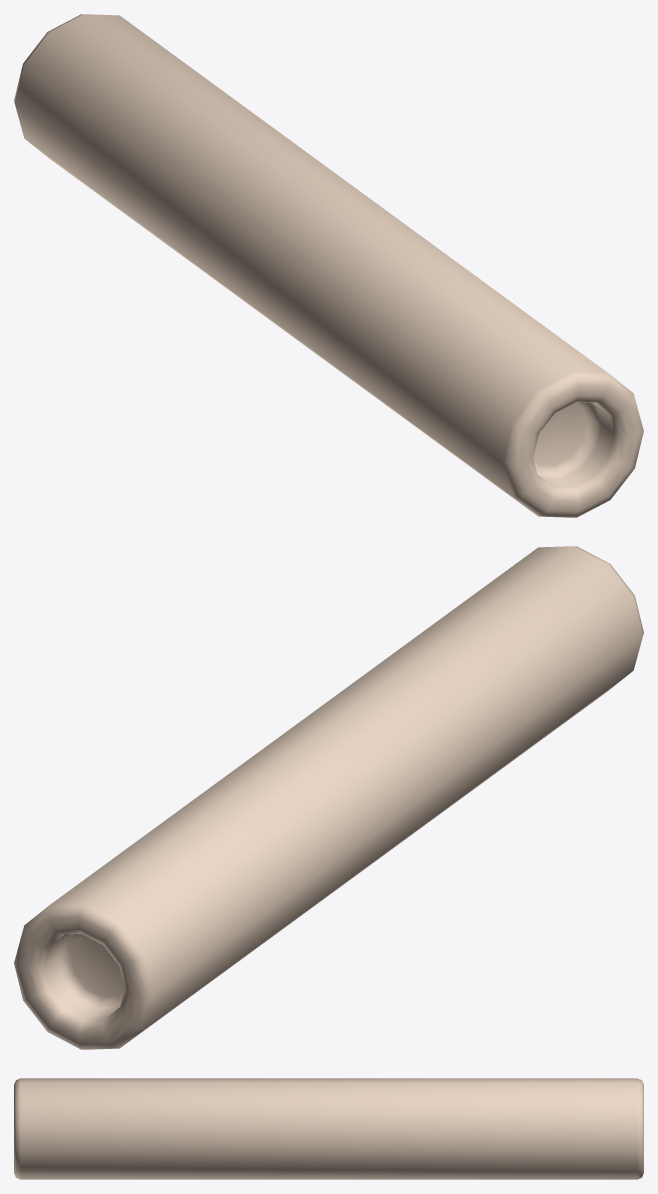
Rendered from Tronco2textu.fbx.
3 views of the same model, one above another, from view 1: azimuth 30°, elevation 25°; view 2: azimuth 150°, elevation 25°; view 3: azimuth 270°, elevation 25° (orthographic). The views are drawn at different scales.
Visible parts, largest first — view 1: Cylinder.003; view 2: Cylinder.003; view 3: Cylinder.003.
Boxes of the visible parts, x1=… form: Cylinder.003: x1=14, y1=14, x2=643, y2=517; Cylinder.003: x1=14, y1=546, x2=643, y2=1049; Cylinder.003: x1=14, y1=1078, x2=643, y2=1179.
Size of the model in its own units: 0.92 by 0.92 by 5.69.
